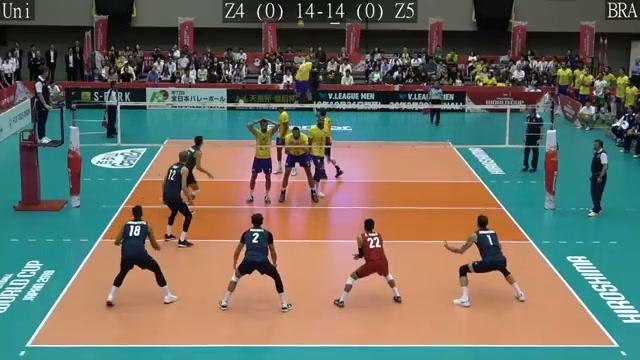ball: (294, 20, 307, 34)
